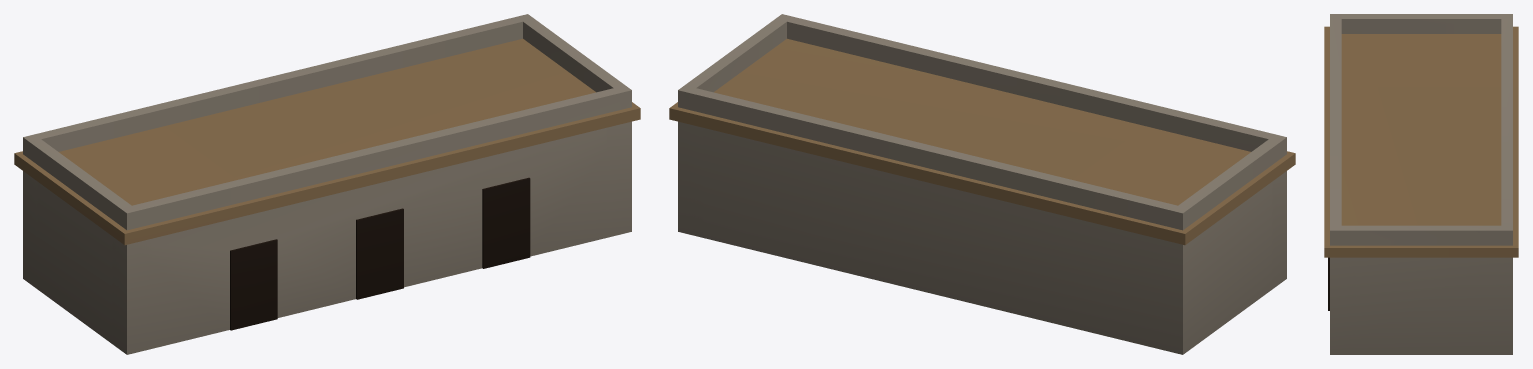
File: wari_gallery_lod0.glb
3 views of the same model, side by side, from view 1: azimuth 30°, elevation 25°; view 2: azimuth 150°, elevation 25°; view 3: azimuth 270°, elevation 25° (orthographic). The views are drawn at different scales.
Parts seen in each view (by area): view 1: GEO-Arch_wari_gallery_LOD0; view 2: GEO-Arch_wari_gallery_LOD0; view 3: GEO-Arch_wari_gallery_LOD0.
Boxes of the visible parts, box(x1,y1,x2,y2) form: GEO-Arch_wari_gallery_LOD0: box(14, 14, 640, 354); GEO-Arch_wari_gallery_LOD0: box(669, 14, 1295, 354); GEO-Arch_wari_gallery_LOD0: box(1324, 14, 1518, 354).
Size of the model in its own units: 14.3 by 3.75 by 5.3.
